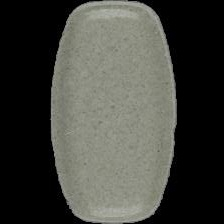63629-3386: (0, 0, 224, 224)
